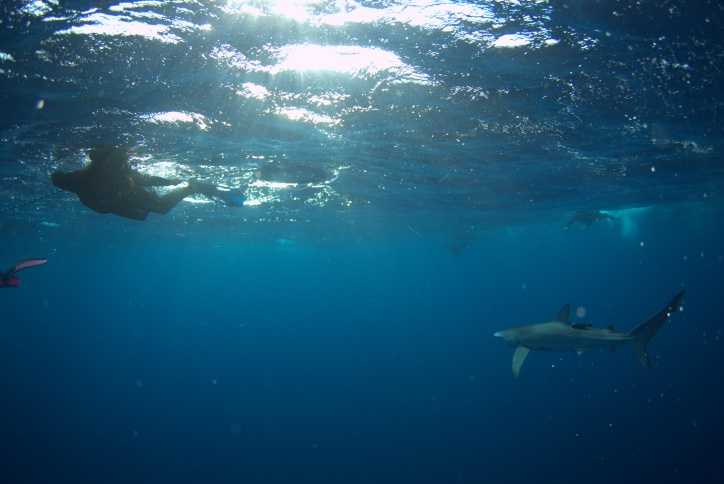Azul: (481, 288, 700, 383)
